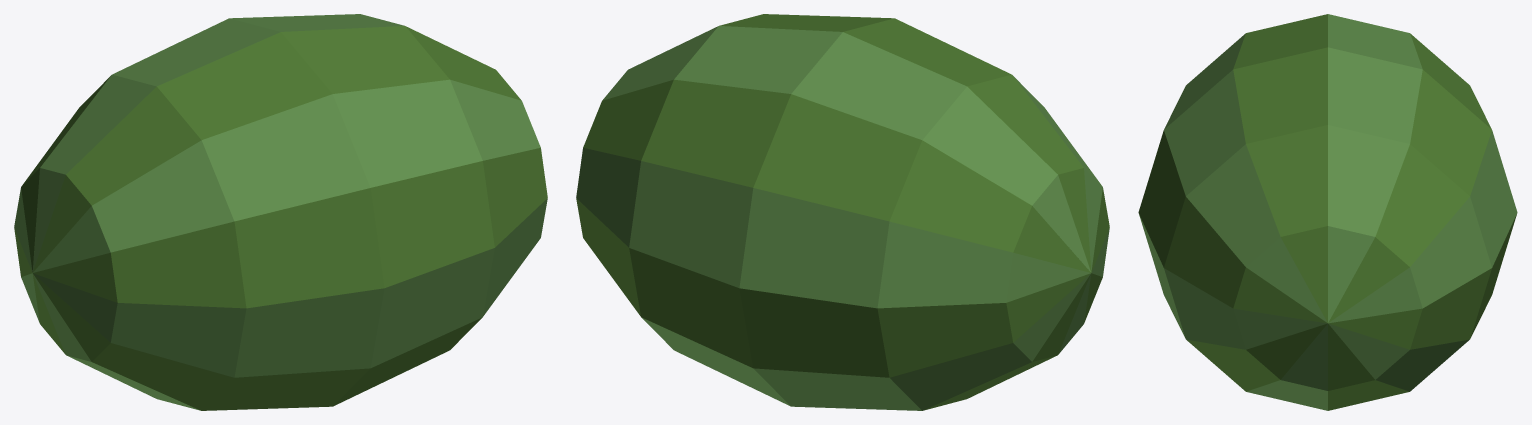
Rendered from FD_Watermelon_01.glb.
3 views of the same model, side by side, from view 1: azimuth 30°, elevation 25°; view 2: azimuth 150°, elevation 25°; view 3: azimuth 270°, elevation 25° (orthographic). The views are drawn at different scales.
Parts seen in each view (by area): view 1: FD_Watermelon_01; view 2: FD_Watermelon_01; view 3: FD_Watermelon_01.
Part boxes in pixels (<box>): FD_Watermelon_01: <box>14,14,547,410</box>; FD_Watermelon_01: <box>576,14,1109,410</box>; FD_Watermelon_01: <box>1138,14,1517,410</box>.
Bounding box in the file's own units: 0.36 × 0.25 × 0.26.
1 material, 1 textured.
